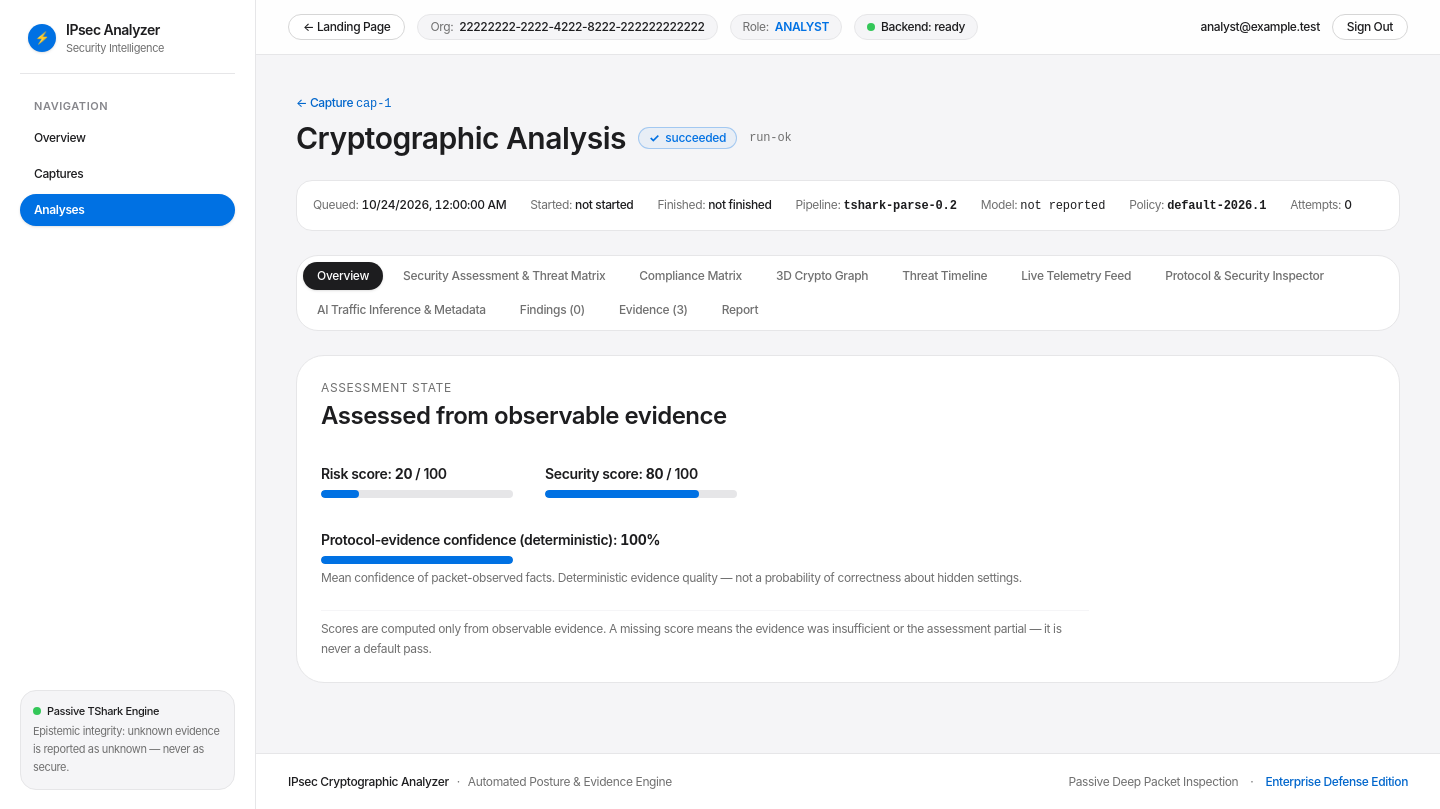
Test: security assessment tab › assessed: scores always paired with evidence coverage
Click the tab "Security Assessment & Threat Matrix" at (504, 276), box [389,262,619,290]
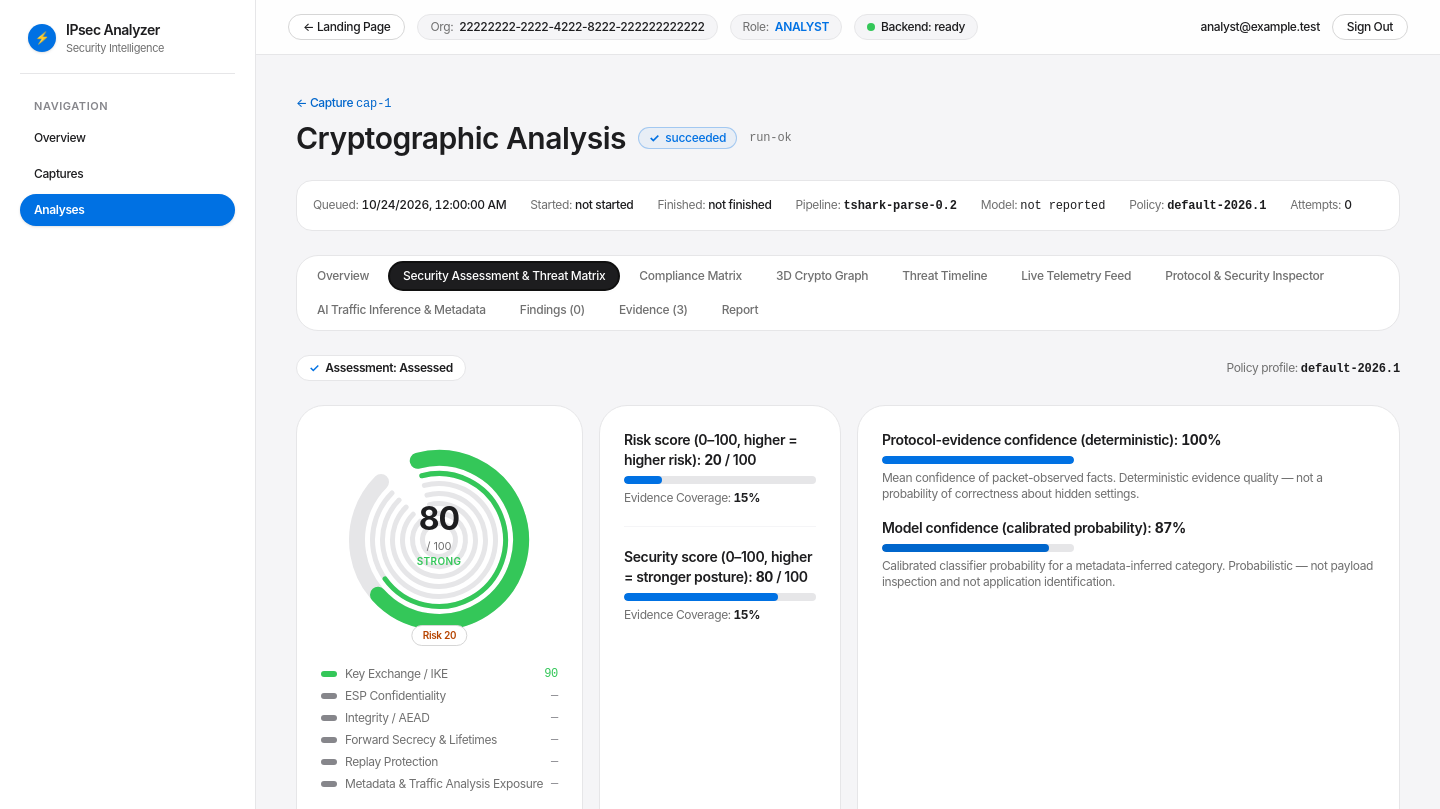
Expected: the text "Protocol-evidence confidence (deterministic): 100%" is shown, [882,431,1221,448]
Expected: the text "Evidence Coverage: 15%" is shown 2 times, [624,490,760,505]; [624,607,760,622]
Expected: the text "Model confidence (calibrated probability): 87%" is shown, [882,519,1186,536]
